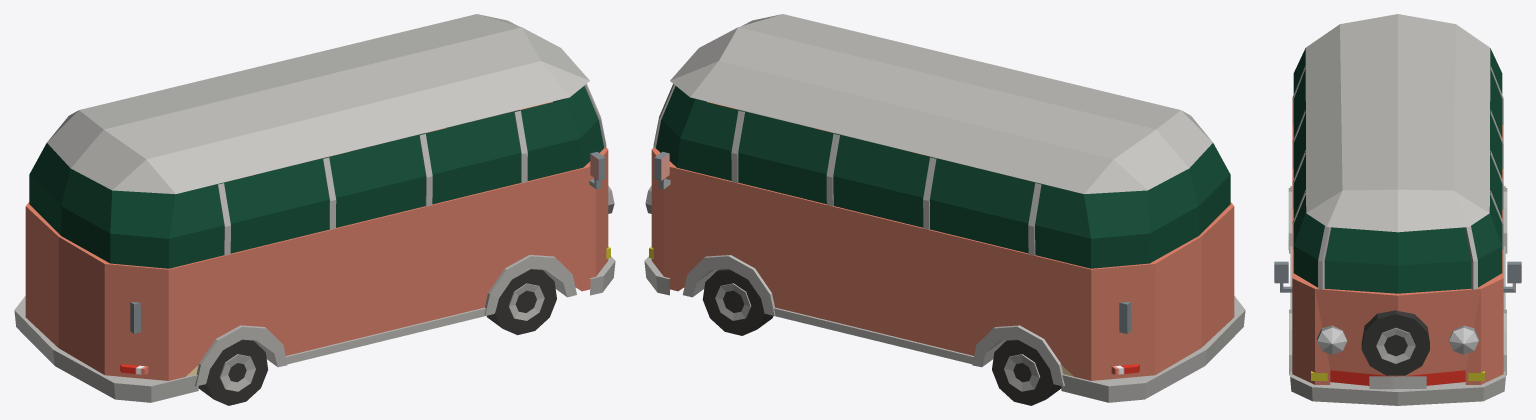
Rendered from transport_01.fbx.
The picture shows the model from 3 angles, left to right: view 1: azimuth 30°, elevation 25°; view 2: azimuth 150°, elevation 25°; view 3: azimuth 270°, elevation 25°; orthographic projection. The views are drawn at different scales.
Visible parts, largest first — view 1: transport_01; view 2: transport_01; view 3: transport_01.
Part boxes in pixels (x1,y1,x2,y2): transport_01: [14, 14, 615, 405]; transport_01: [644, 14, 1245, 405]; transport_01: [1274, 14, 1521, 405].
Size of the model in its own units: 244 by 114 by 110.
